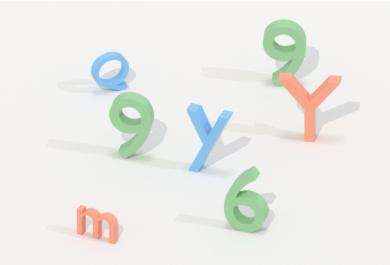9: (259, 15, 309, 91), (107, 89, 158, 161)
Q: (88, 48, 130, 93)
Y: (278, 69, 346, 146)
m: (221, 162, 275, 238), (73, 199, 122, 247)
y: (185, 100, 236, 175)
